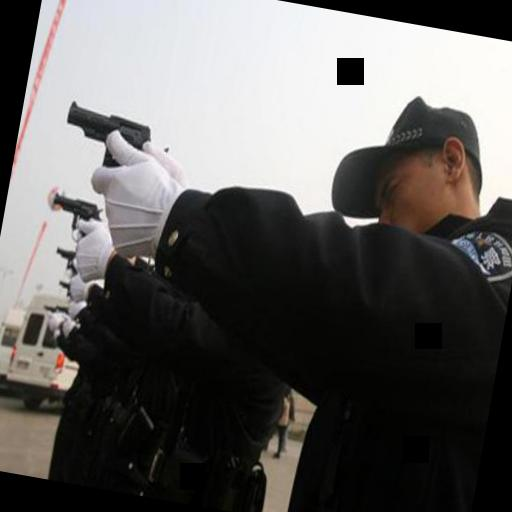Handgun: (59, 98, 174, 178), (44, 186, 107, 240), (49, 242, 83, 278), (52, 278, 72, 296), (51, 302, 66, 314)
